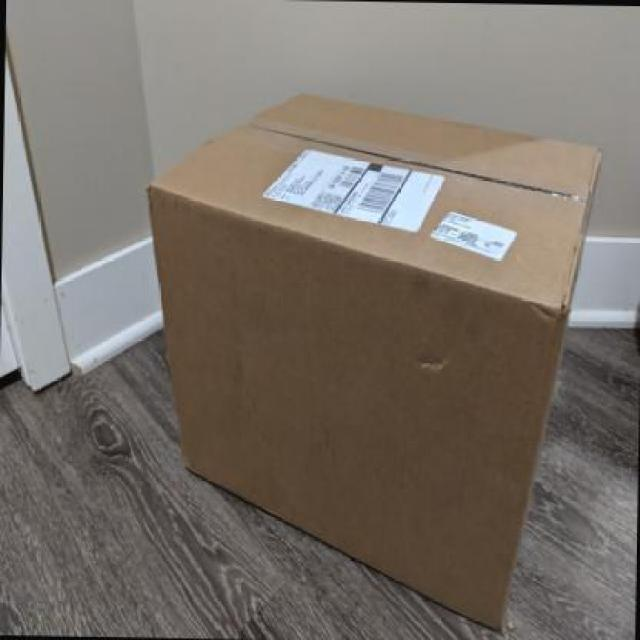box: (144, 94, 604, 628)
